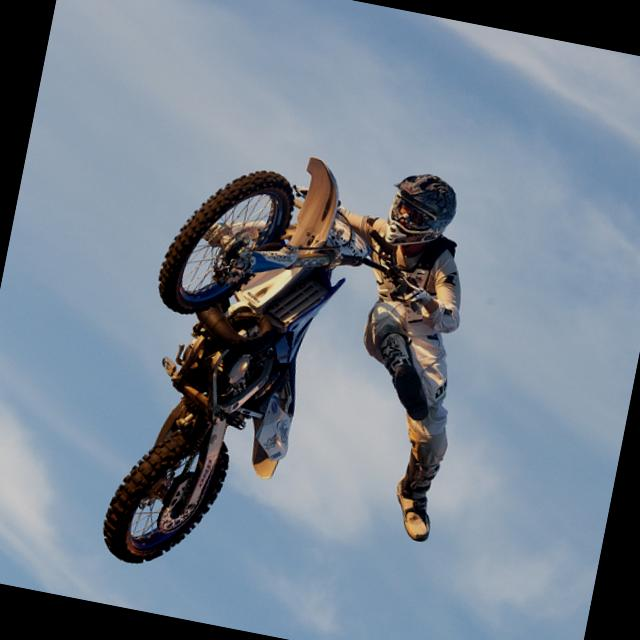Vehicle: (78, 125, 460, 625)
